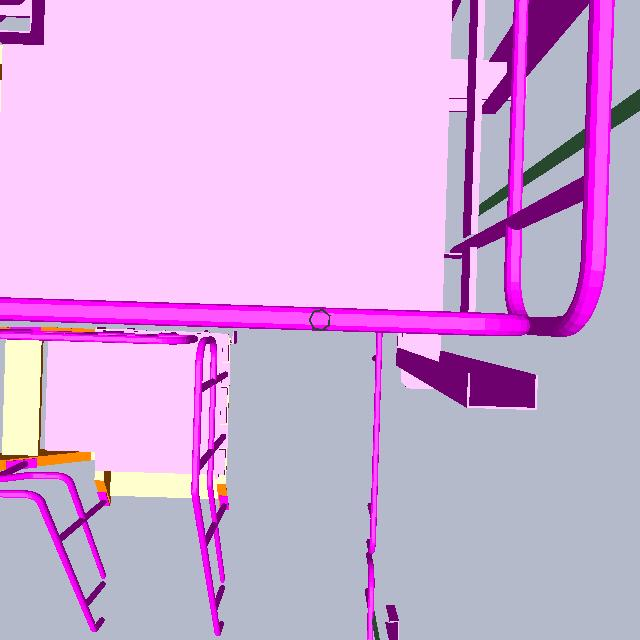Poste: (303, 304, 335, 339)
Soporte: (388, 311, 545, 424)
